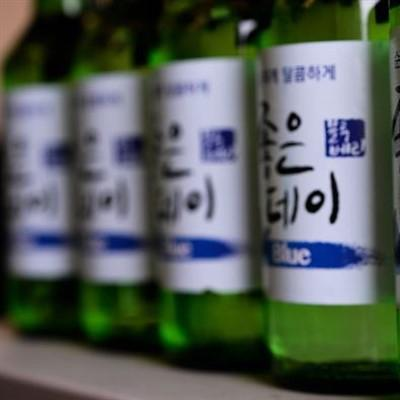soju: (2, 3, 400, 394)
